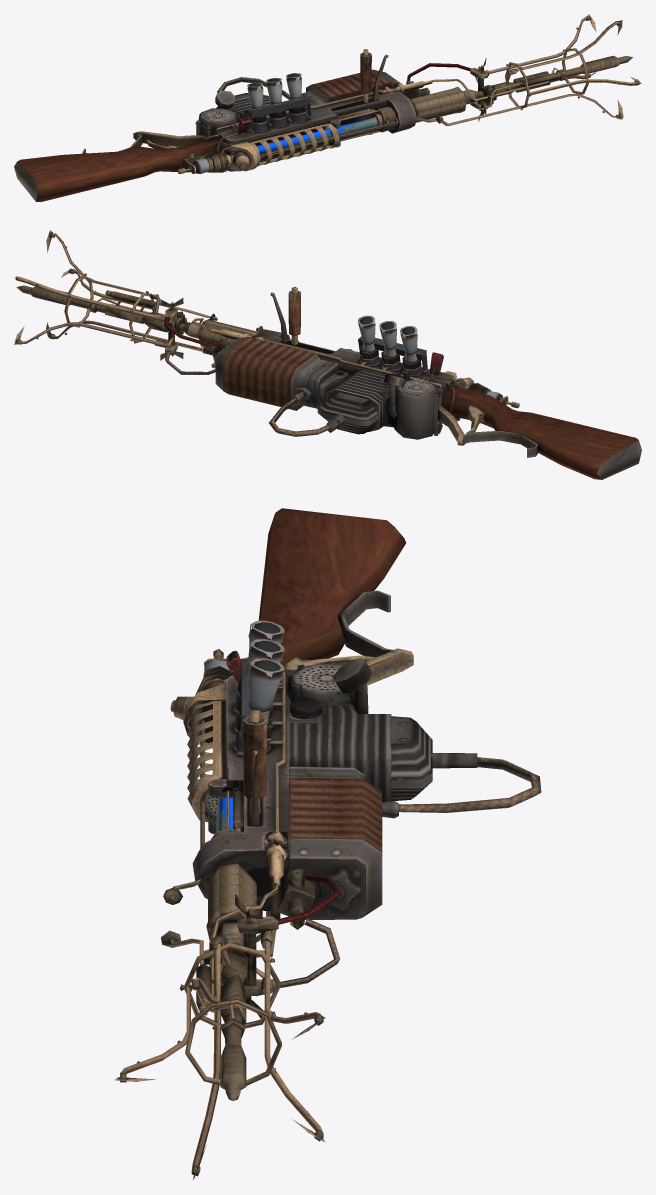
Rendered from weapon_tesla_lod01.obj.
3 views of the same model, one above another, from view 1: azimuth 30°, elevation 25°; view 2: azimuth 150°, elevation 25°; view 3: azimuth 270°, elevation 25° (orthographic). The views are drawn at different scales.
Parts seen in each view (by area): view 1: TomGroup_4, TomGroup_0, TomGroup_1, TomGroup_3, TomGroup_2; view 2: TomGroup_4, TomGroup_0, TomGroup_1; view 3: TomGroup_4, TomGroup_1, TomGroup_0.
Boxes of the visible parts, x1=… form: TomGroup_4: x1=14, y1=14, x2=641, y2=201; TomGroup_0: x1=247, y1=73, x2=311, y2=133; TomGroup_1: x1=193, y1=73, x2=301, y2=174; TomGroup_3: x1=257, y1=119, x2=367, y2=153; TomGroup_2: x1=272, y1=117, x2=378, y2=151; TomGroup_4: x1=14, y1=230, x2=641, y2=479; TomGroup_0: x1=358, y1=315, x2=427, y2=375; TomGroup_1: x1=358, y1=316, x2=503, y2=400; TomGroup_4: x1=115, y1=508, x2=541, y2=1179; TomGroup_1: x1=203, y1=622, x2=282, y2=712; TomGroup_0: x1=234, y1=620, x2=284, y2=756.
Bounding box in the file's own units: 134 × 25.51 × 42.14.
Materials: 5 (5 with a texture image).
